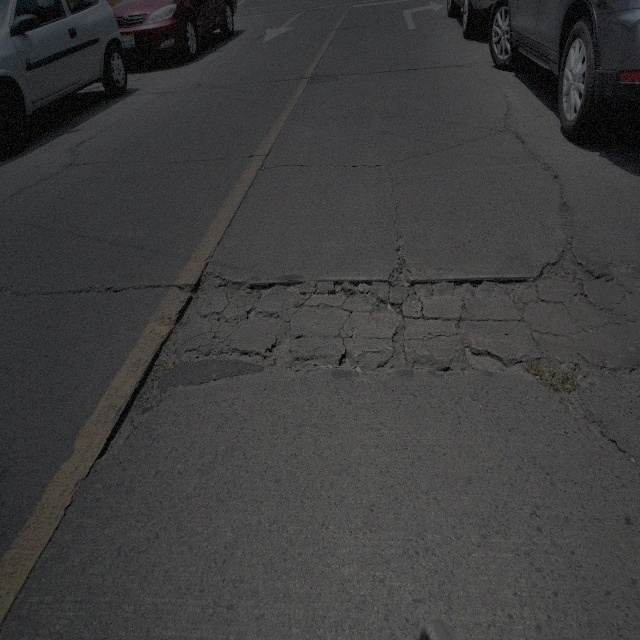pothole: (98, 332, 175, 462), (534, 234, 600, 284), (465, 347, 516, 379), (455, 278, 495, 298), (389, 259, 416, 286), (339, 352, 362, 378)
